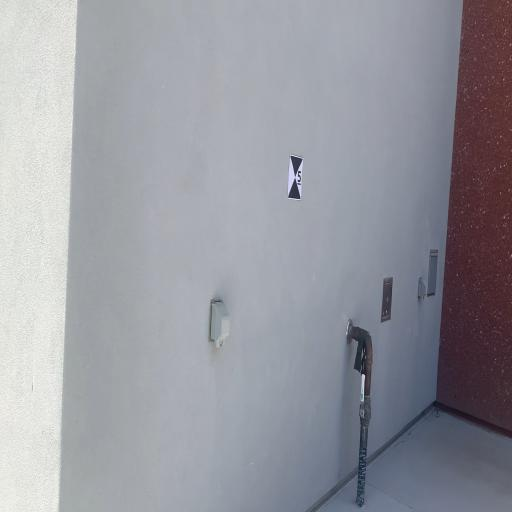target5: (289, 154, 303, 200)
